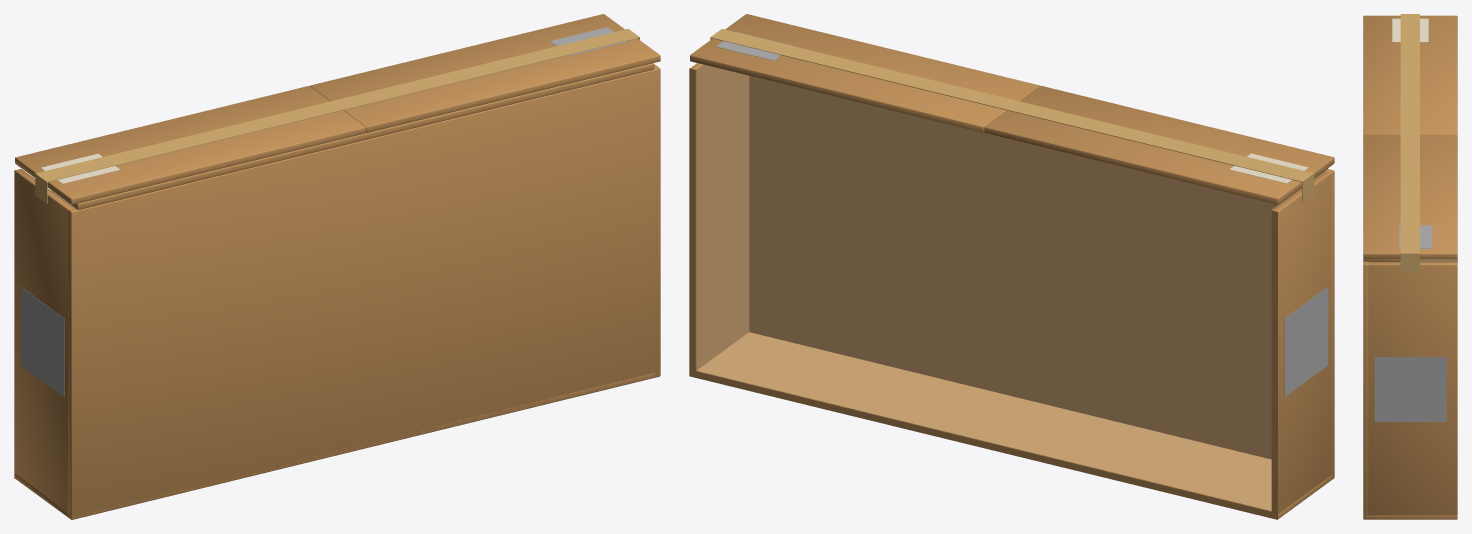
3 views of the same model, side by side, from view 1: azimuth 30°, elevation 25°; view 2: azimuth 150°, elevation 25°; view 3: azimuth 270°, elevation 25° (orthographic). The views are drawn at different scales.
Parts seen in each view (by area): view 1: box_8x4, FlapR, FlapL, Tape, FlapB; view 2: box_8x4, FlapR, FlapL, Tape; view 3: box_8x4, FlapL, FlapR, Tape, FlapB.
Part boxes in pixels (left/top/right/bottom): box_8x4: left=14, top=64, right=660, bottom=519; FlapR: left=15, top=86, right=365, bottom=204; FlapL: left=310, top=14, right=660, bottom=132; Tape: left=35, top=29, right=639, bottom=203; FlapB: left=51, top=63, right=654, bottom=209; box_8x4: left=689, top=63, right=1334, bottom=519; FlapR: left=984, top=86, right=1334, bottom=204; FlapL: left=690, top=14, right=1039, bottom=132; Tape: left=710, top=29, right=1314, bottom=203; box_8x4: left=1363, top=258, right=1457, bottom=519; FlapL: left=1363, top=134, right=1457, bottom=258; FlapR: left=1363, top=15, right=1457, bottom=134; Tape: left=1400, top=14, right=1419, bottom=271; FlapB: left=1363, top=258, right=1400, bottom=261.
Size of the model in its own units: 2.06 by 1.07 by 0.3428.
